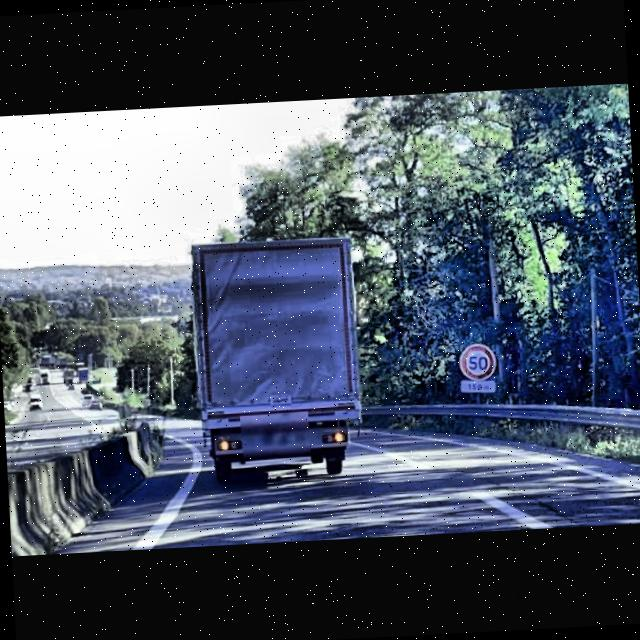speed_50: (461, 346, 496, 380)
